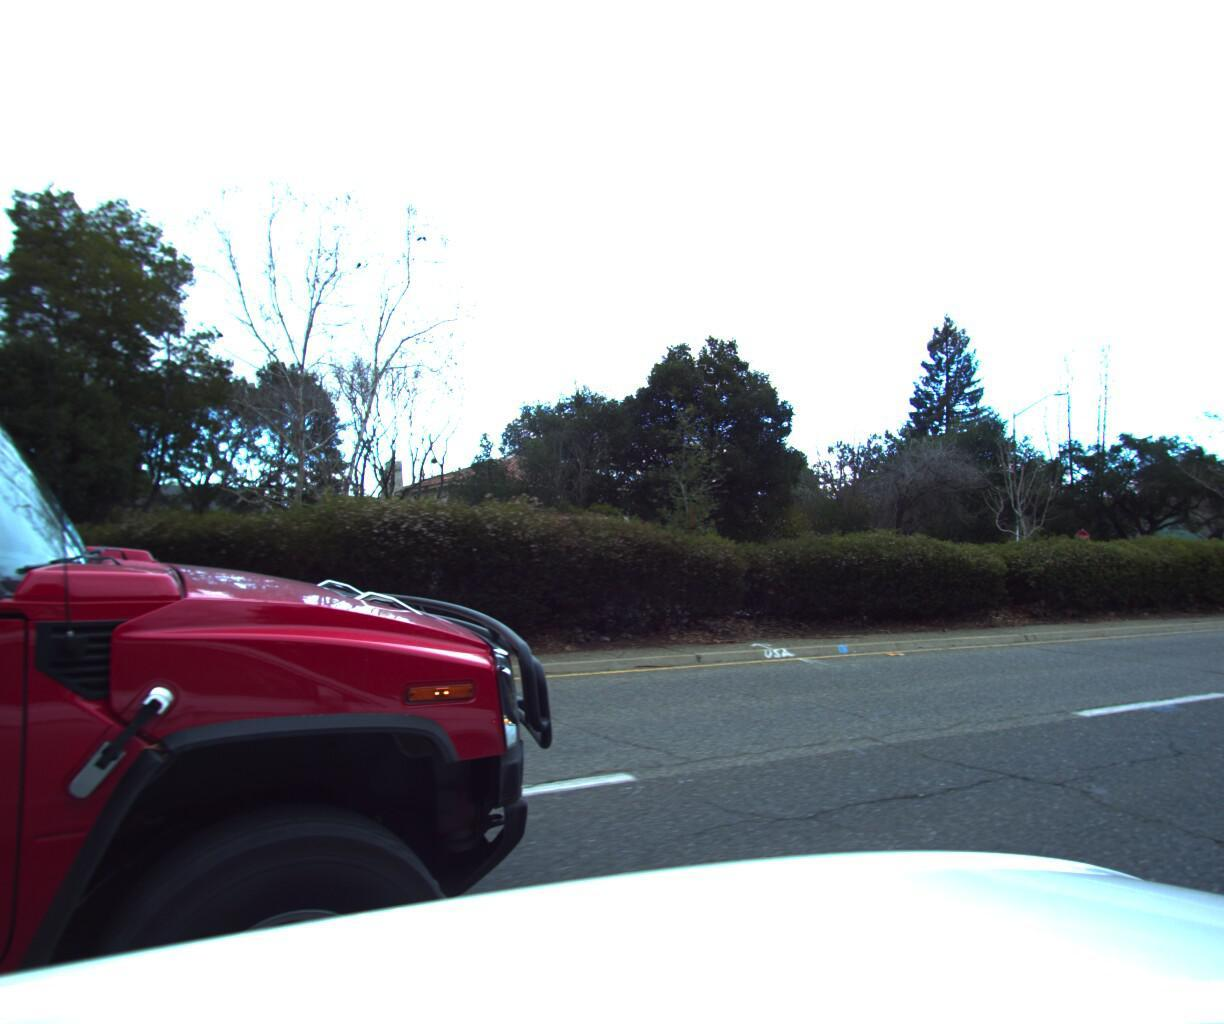car: (355, 504, 580, 619)
